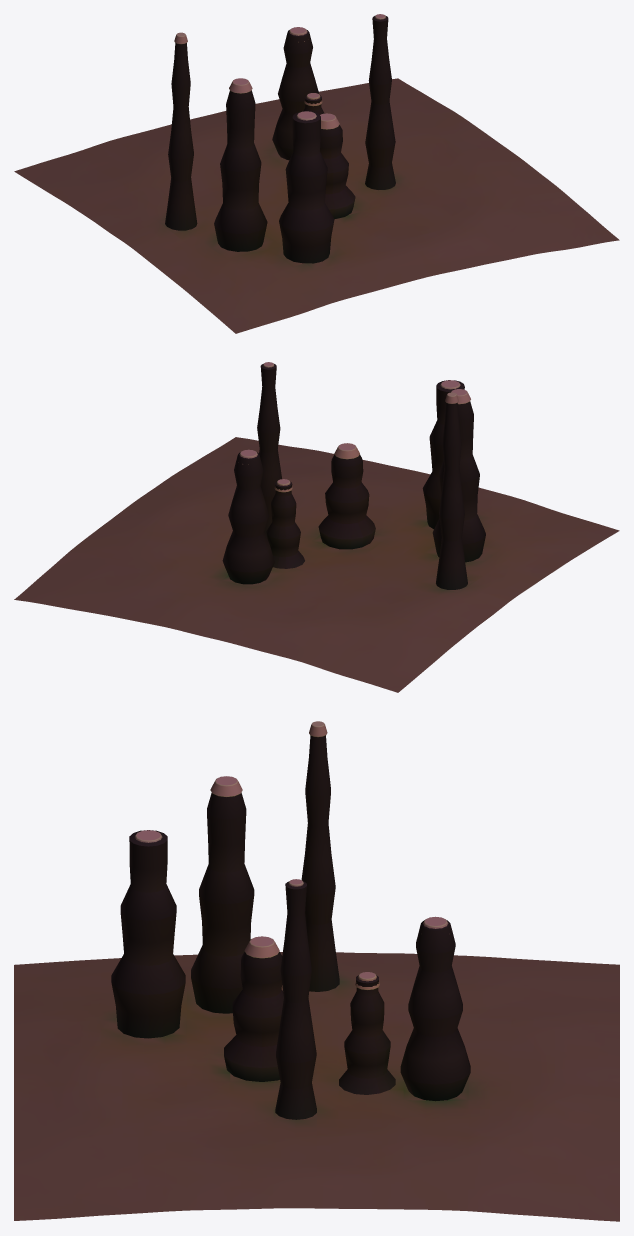
Rendered from rift_vents.glb.
The picture shows the model from 3 angles, top to bottom: view 1: azimuth 30°, elevation 25°; view 2: azimuth 150°, elevation 25°; view 3: azimuth 270°, elevation 25°; orthographic projection. The views are drawn at different scales.
Visible parts, largest first — view 1: vents; view 2: vents; view 3: vents.
Part boxes in pixels (bbox=[...]): vents: bbox=[14, 14, 619, 333]; vents: bbox=[14, 362, 619, 692]; vents: bbox=[14, 721, 619, 1221].
Bounding box in the file's own units: 14 × 7.13 × 14.
